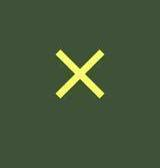ImgButton: (1, 1, 159, 167)
